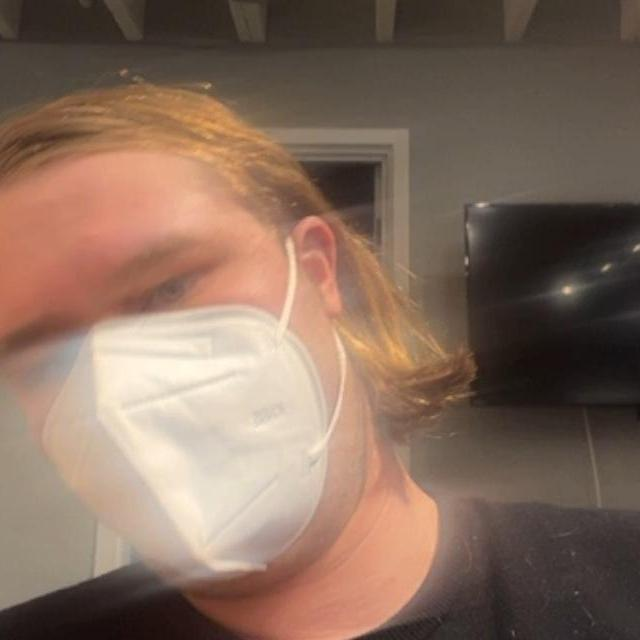Mask: (41, 299, 353, 592)
NO-Hardhat: (0, 70, 269, 248)
NO-Safety Vest: (0, 505, 640, 640)
Person: (0, 67, 640, 640)
